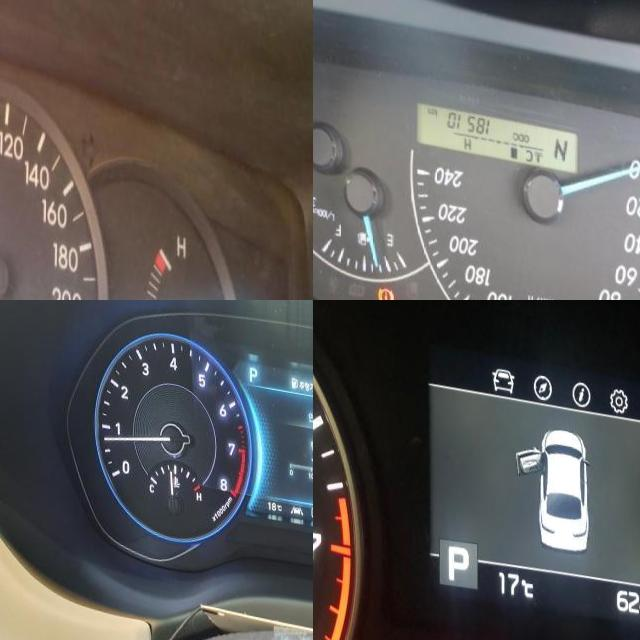LaneCenteringOff: (290, 492, 302, 504)
